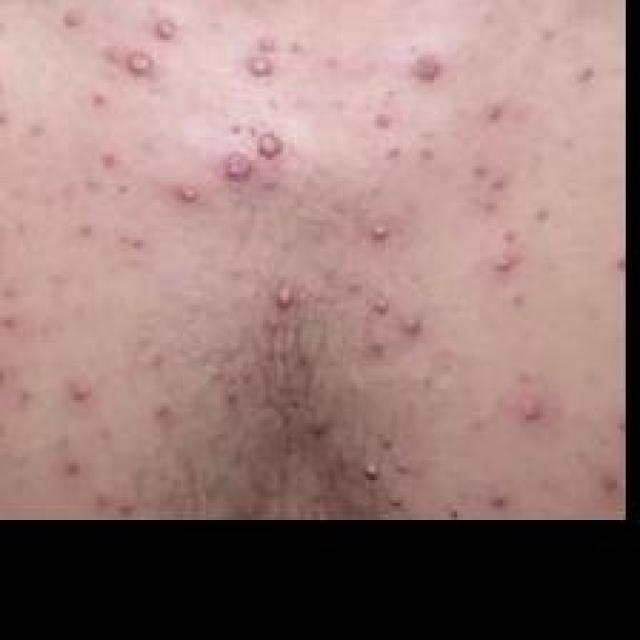others: (0, 5, 631, 523)
